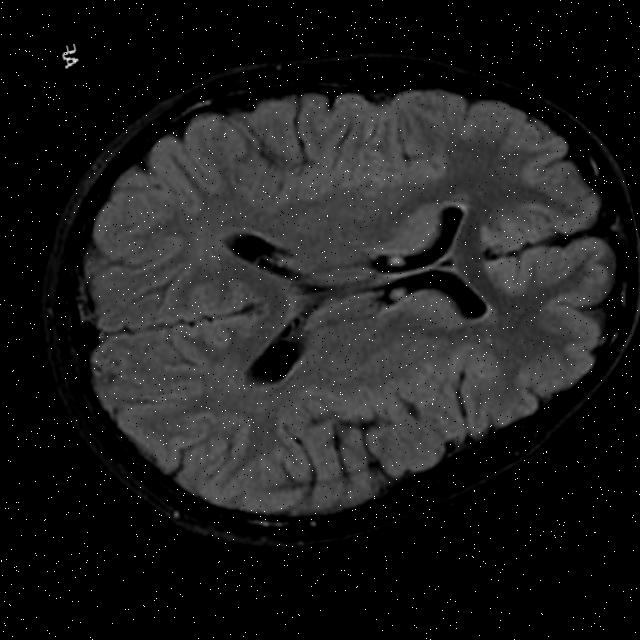NoTumor: (25, 14, 640, 573)
